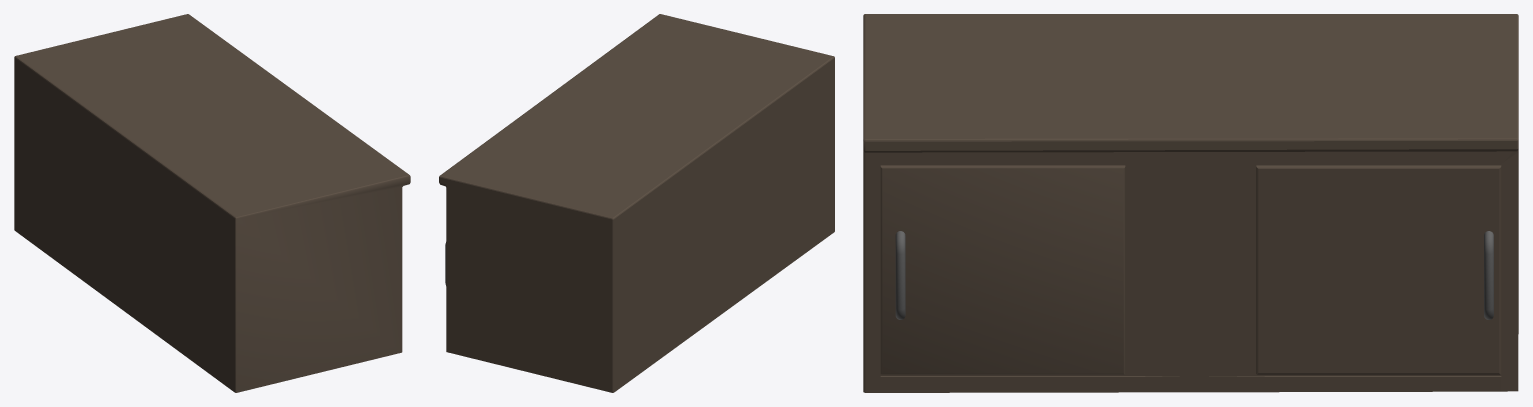
File: Cabine_Grand_1.fbx
The picture shows the model from 3 angles, left to right: view 1: azimuth 30°, elevation 25°; view 2: azimuth 150°, elevation 25°; view 3: azimuth 270°, elevation 25°; orthographic projection. The views are drawn at different scales.
Visible parts, largest first — view 1: Cabine_Grand_1; view 2: Cabine_Grand_1; view 3: Cabine_Grand_1.
Part boxes in pixels (box(x1,y1,x2,y2)): Cabine_Grand_1: box(14, 14, 410, 392); Cabine_Grand_1: box(439, 14, 834, 392); Cabine_Grand_1: box(863, 14, 1518, 392).
Size of the model in its own units: 212 by 200 by 459.
